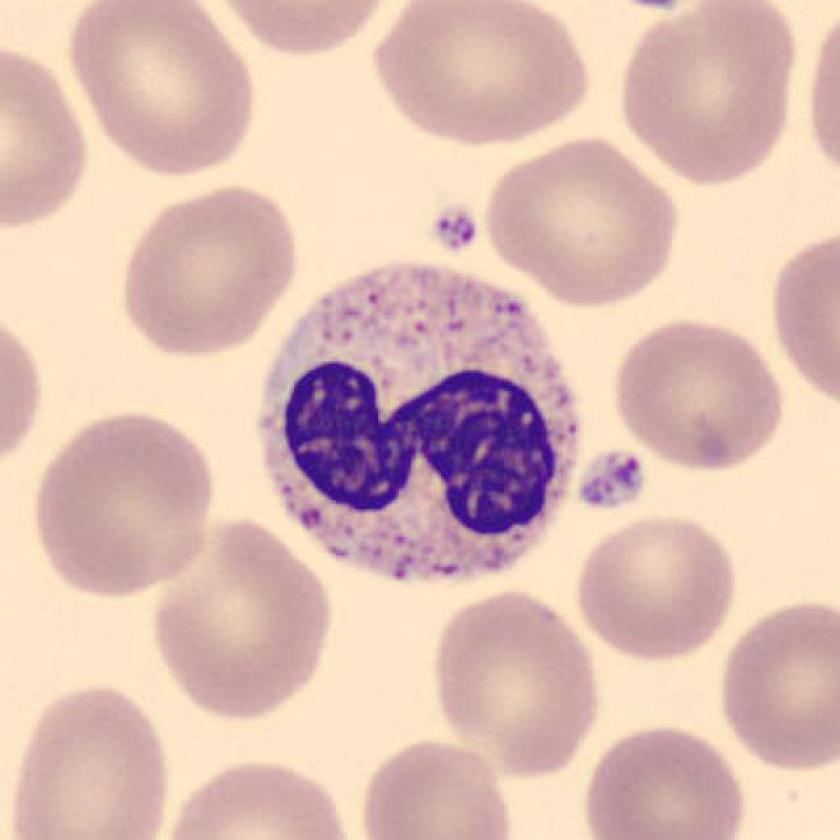neutrophil: (259, 264, 579, 584)
